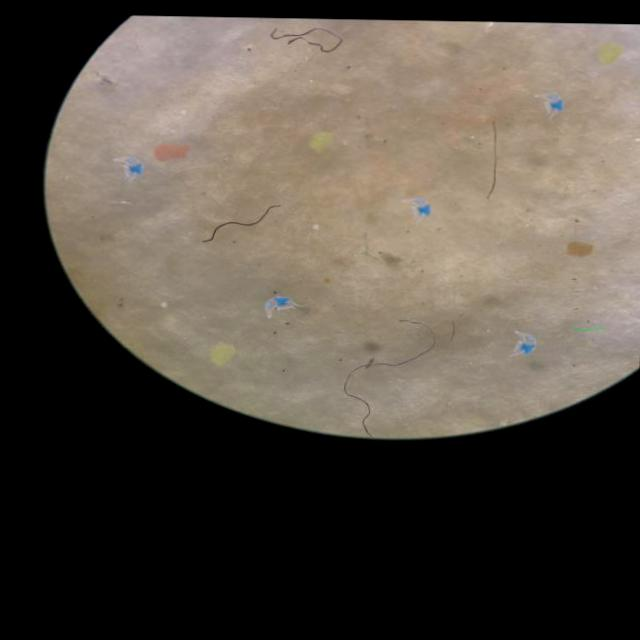fiber: (344, 342, 433, 435), (204, 205, 275, 242), (270, 29, 340, 52), (487, 124, 497, 198)
film: (265, 296, 291, 317), (516, 337, 535, 356), (125, 158, 142, 176), (414, 199, 429, 216), (548, 96, 563, 112)
fragment: (210, 343, 234, 365), (155, 145, 186, 161), (309, 133, 330, 151), (599, 46, 620, 64), (567, 241, 592, 256)
pellet: (161, 302, 166, 307), (180, 111, 186, 115), (313, 225, 317, 229)
